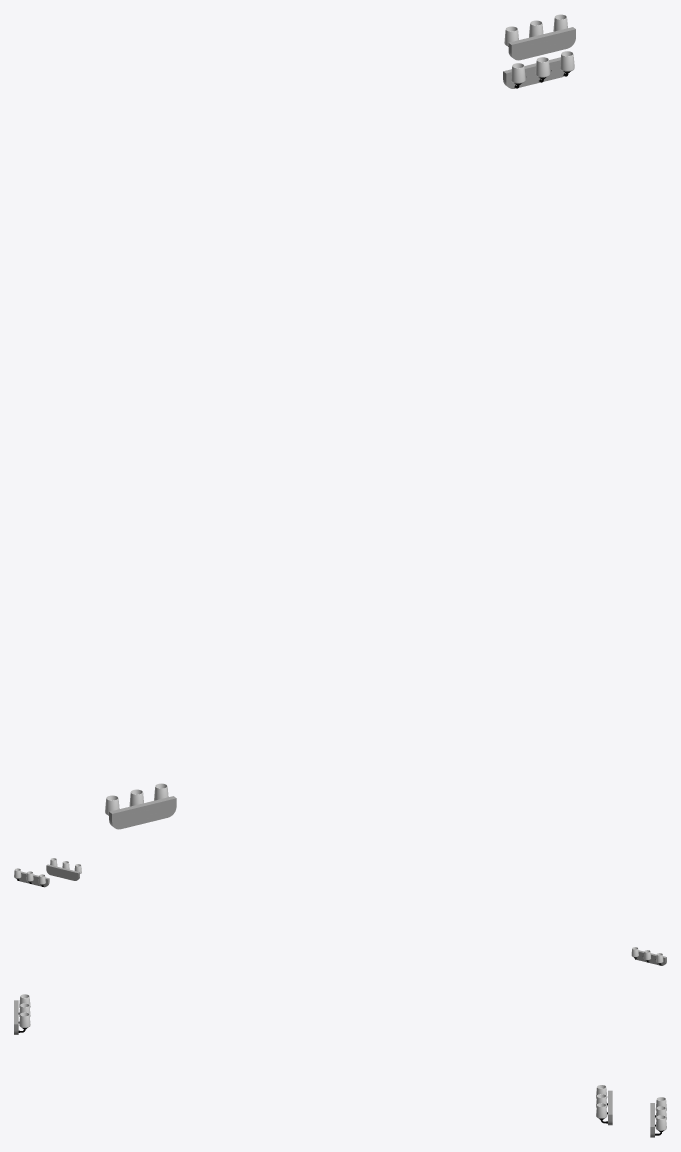
The model's file is Light_Windom_chrome.glb.
3 views of the same model, one above another, from view 1: azimuth 30°, elevation 25°; view 2: azimuth 150°, elevation 25°; view 3: azimuth 270°, elevation 25° (orthographic). The views are drawn at different scales.
Parts seen in each view (by area): view 1: Lamp_black.005; view 2: Lamp_black.005; view 3: Lamp_black.005.
Part boxes in pixels (left/top/right/bottom): Lamp_black.005: left=105, top=14, right=575, bottom=829; Lamp_black.005: left=14, top=858, right=666, bottom=965; Lamp_black.005: left=14, top=994, right=666, bottom=1137.
Size of the model in its own units: 14.29 by 4.49 by 12.03.
Materials: 3 (1 with a texture image).
